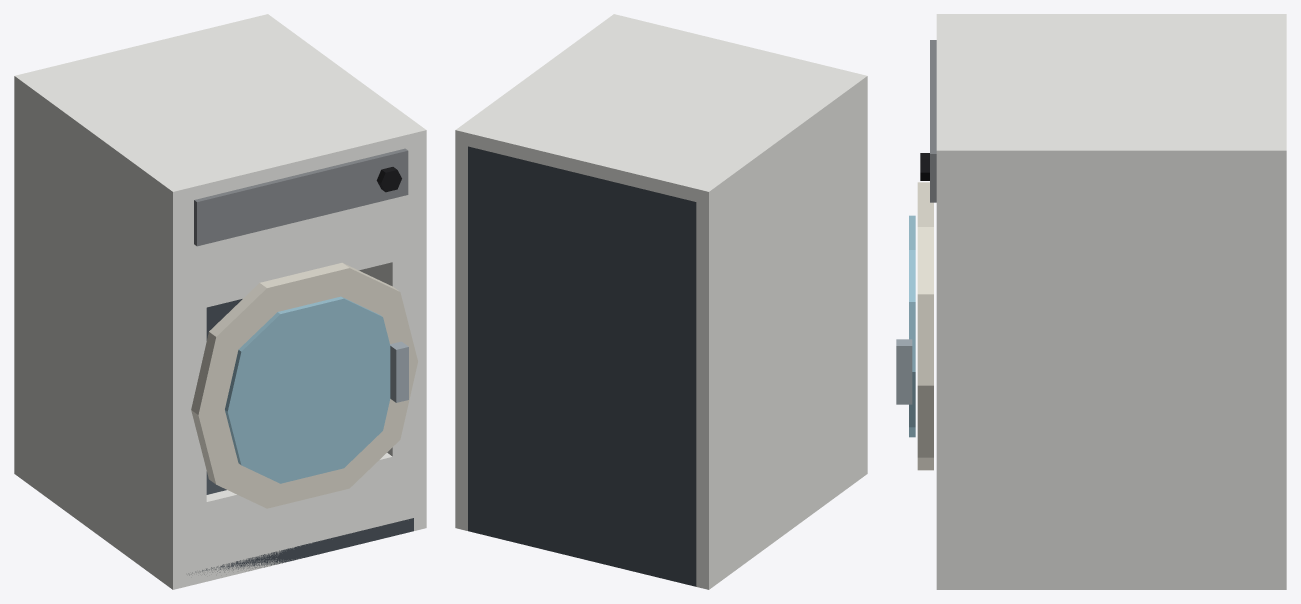
The model's file is GI_Washer_01.glb.
3 renders of one model, left to right at view 1: azimuth 30°, elevation 25°; view 2: azimuth 150°, elevation 25°; view 3: azimuth 270°, elevation 25°, orthographic. The views are drawn at different scales.
Visible parts, largest first — view 1: GI_Washer_01, Door; view 2: GI_Washer_01; view 3: GI_Washer_01, Door.
Part boxes in pixels (box(x1,y1,x2,y2)): GI_Washer_01: box(14, 14, 426, 589); Door: box(191, 262, 417, 508); GI_Washer_01: box(455, 14, 867, 589); GI_Washer_01: box(920, 14, 1286, 589); Door: box(896, 182, 933, 470).
Size of the model in its own units: 0.6 by 0.9 by 0.725.
1 material, 1 textured.
